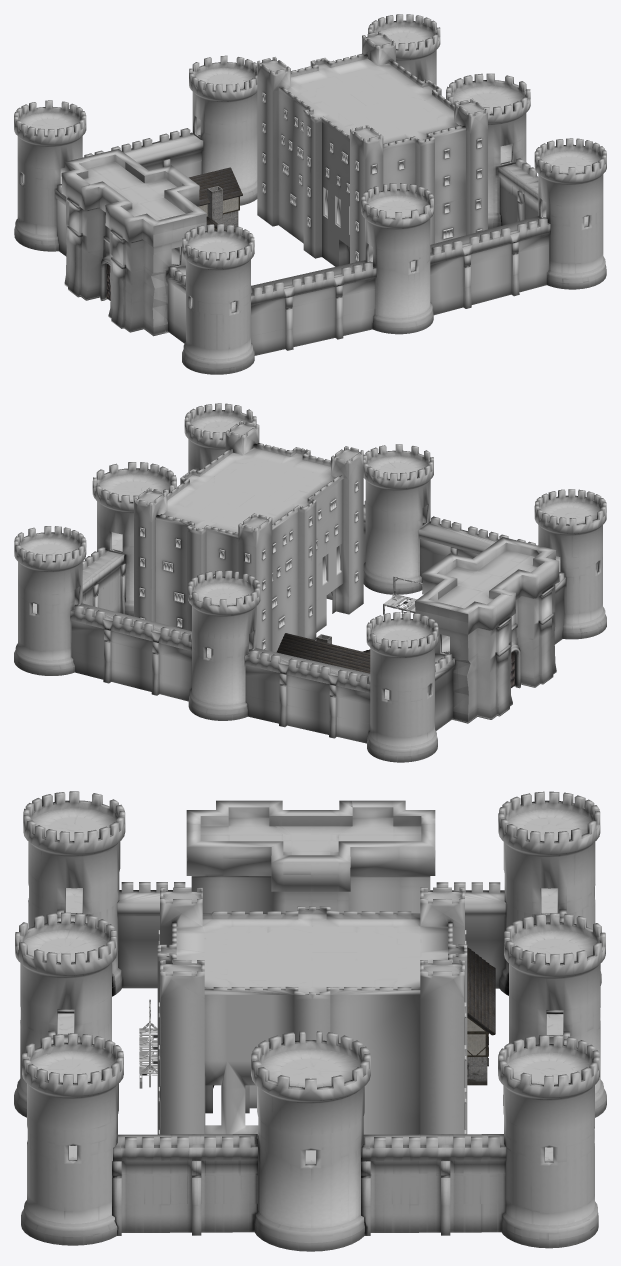
Rendered from castle.fbx.
3 views of the same model, one above another, from view 1: azimuth 30°, elevation 25°; view 2: azimuth 150°, elevation 25°; view 3: azimuth 270°, elevation 25° (orthographic). The views are drawn at different scales.
Visible parts, largest first — view 1: Castle, Decorations; view 2: Castle, Decorations; view 3: Castle, Decorations.
Part boxes in pixels (x1,y1,x2,y2): Castle: (14,14,606,374); Decorations: (106,92,482,300); Castle: (14,403,606,762); Decorations: (139,481,514,687); Castle: (14,791,606,1251); Decorations: (139,930,495,1134).
Size of the model in its own units: 38658 by 13335 by 32667.
